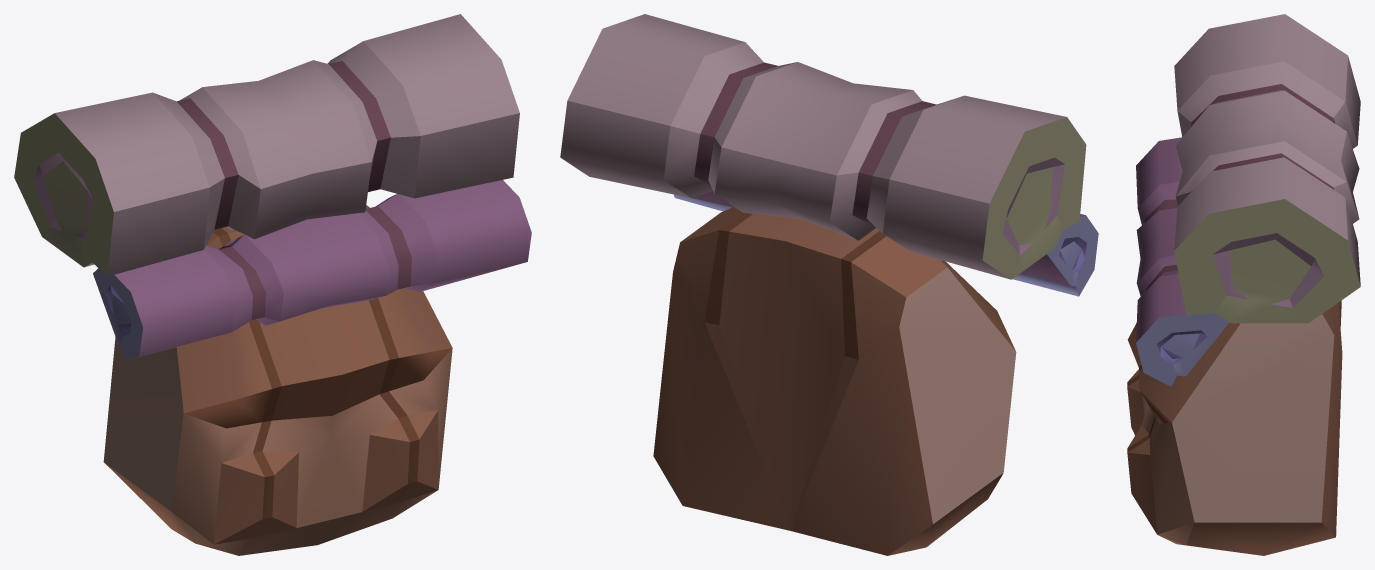
Rendered from Rucksack.fbx.
3 renders of one model, left to right at view 1: azimuth 30°, elevation 25°; view 2: azimuth 150°, elevation 25°; view 3: azimuth 270°, elevation 25°, orthographic. The views are drawn at different scales.
Visible parts, largest first — view 1: rucksackaccessory2_mesh, rucksack_mesh, rucksackaccessory1_mesh; view 2: rucksack_mesh, rucksackaccessory2_mesh, rucksackaccessory1_mesh; view 3: rucksackaccessory2_mesh, rucksack_mesh, rucksackaccessory1_mesh.
Boxes of the visible parts, x1,y1,x2,y2 form: rucksackaccessory2_mesh: (14, 14, 519, 276); rucksack_mesh: (103, 205, 452, 555); rucksackaccessory1_mesh: (93, 180, 531, 360); rucksack_mesh: (653, 207, 1016, 555); rucksackaccessory2_mesh: (560, 14, 1086, 279); rucksackaccessory1_mesh: (673, 191, 1098, 296); rucksackaccessory2_mesh: (1174, 14, 1360, 323); rucksack_mesh: (1127, 300, 1342, 555); rucksackaccessory1_mesh: (1136, 137, 1229, 386).
Bounding box in the file's own units: 40 × 42.21 × 21.34.
